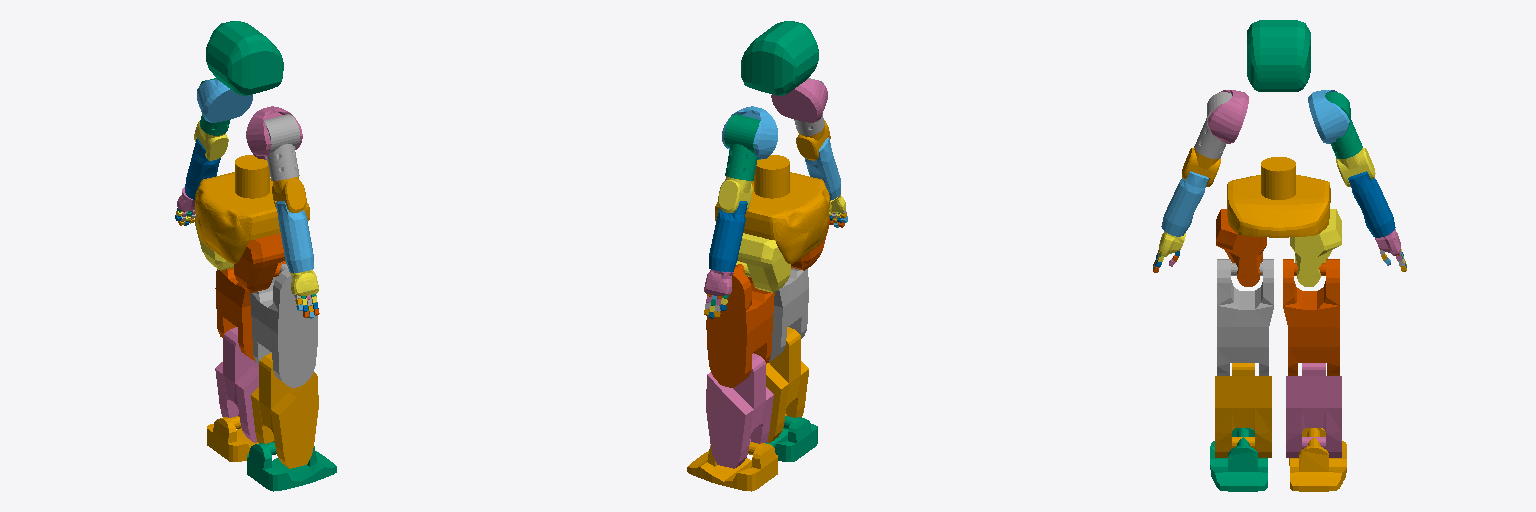
--- Render facts (derived) ---
The picture shows the robot from 3 angles, left to right: view 1: azimuth 30°, elevation 25°; view 2: azimuth 150°, elevation 25°; view 3: azimuth 270°, elevation 25°; orthographic projection.
Model ar600 with 65 links and 64 joints (54 revolute, 10 fixed), rooted at base_link, posed all joints at 0.
Visible links, largest first — view 1: base_link, right_hip, right_shin, head_link, left_shin, right_foot, left_hip, base_right_hip, right_upper_forearm, right_arm_link, left_shoulder, left_foot (+5 smaller); view 2: base_link, left_hip, left_shin, head_link, right_shin, left_foot, right_hip, base_left_hip, left_upper_forearm, left_arm_link, right_shoulder, right_foot (+5 smaller); view 3: base_link, right_hip, left_hip, right_shin, head_link, left_shin, right_foot, left_foot, base_left_hip, base_right_hip, left_arm_link, right_arm_link (+6 smaller).
Link boxes in pixels (bbox=[...]): base_link: bbox=[195, 155, 309, 263]; right_hip: bbox=[250, 261, 317, 387]; right_shin: bbox=[251, 353, 318, 468]; head_link: bbox=[206, 21, 283, 95]; left_shin: bbox=[215, 327, 258, 442]; right_foot: bbox=[247, 442, 336, 491]; left_hip: bbox=[215, 268, 255, 361]; base_right_hip: bbox=[234, 233, 285, 292]; right_upper_forearm: bbox=[264, 114, 299, 180]; right_arm_link: bbox=[276, 201, 313, 272]; left_shoulder: bbox=[197, 79, 252, 122]; left_foot: bbox=[207, 416, 258, 461]; base_link: bbox=[715, 155, 829, 263]; left_hip: bbox=[706, 260, 774, 387]; left_shin: bbox=[706, 353, 773, 468]; head_link: bbox=[741, 21, 818, 95]; right_shin: bbox=[766, 327, 808, 442]; left_foot: bbox=[687, 442, 777, 491]; right_hip: bbox=[769, 268, 808, 361]; base_left_hip: bbox=[736, 233, 790, 292]; left_upper_forearm: bbox=[724, 114, 760, 180]; left_arm_link: bbox=[709, 201, 747, 272]; right_shoulder: bbox=[771, 79, 827, 122]; right_foot: bbox=[766, 416, 817, 461]; base_link: bbox=[1227, 157, 1330, 237]; right_hip: bbox=[1217, 259, 1273, 375]; left_hip: bbox=[1283, 259, 1339, 375]; right_shin: bbox=[1215, 363, 1271, 457]; head_link: bbox=[1247, 20, 1310, 91]; left_shin: bbox=[1286, 363, 1341, 457]; right_foot: bbox=[1210, 428, 1267, 491]; left_foot: bbox=[1289, 428, 1346, 491]; base_left_hip: bbox=[1290, 209, 1341, 286]; base_right_hip: bbox=[1216, 209, 1266, 286]; left_arm_link: bbox=[1348, 171, 1395, 237]; right_arm_link: bbox=[1161, 171, 1208, 236].
Size in the robot's own frame: 0.3687 by 0.7946 by 1.5 metres.
Meshes: 21 distinct files referenced, 56 mesh visuals loaded (20 Collada DAE); not drawn: 1 (reference not matched to a file when rendering).

robot.urdf — ar600:
<?xml version="1.0" ?>
<!-- =================================================================================== -->
<!-- |    This document was autogenerated by xacro from ar600.urdf.xacro               | -->
<!-- |    EDITING THIS FILE BY HAND IS NOT RECOMMENDED                                 | -->
<!-- =================================================================================== -->
<robot name="ar600" xmlns:xacro="http://ros.org/wiki/xacro">
  <gazebo>
    <plugin filename="libgazebo_ros_control.so" name="gazebo_ros_control">
      <robotNamespace>/ar600</robotNamespace>
    </plugin>
    <!-- 	<plugin name="gazebo_ros_controller_manager" filename="libgazebo_ros_controller_manager.so">
    	<alwaysOn>true</alwaysOn>
    	<updateRate>1000.0</updateRate>
    	<robotNamespace>/ar600</robotNamespace>
    </plugin>
 -->
  </gazebo>
  <!--<xacro:include filename="$(find ar600_description)/urdf/base/base.transmission.xacro" />-->
  <!--<xacro:include filename="$(find ar600_description)/urdf/head/head.transmission.xacro" />-->
  <!--<xacro:include filename="$(find ar600_description)/urdf/leg/leg.transmission.xacro" />-->
  <!--<xacro:include filename="$(find ar600_description)/urdf/hand/hand.transmission.xacro" />-->
  <link name="base_link">
    <inertial>
      <mass value="10"/>
      <inertia ixx="1.0" ixy="0.0" ixz="0.0" iyy="1.0" iyz="0.0" izz="1.0"/>
    </inertial>
    <collision>
      <geometry>
        <mesh filename="package://ar600_description/meshes/base.stl"/>
      </geometry>
    </collision>
    <visual>
      <geometry>
        <mesh filename="package://ar600_description/meshes/base_low.dae"/>
      </geometry>
    </visual>
  </link>
  <link name="torso_link">
    <inertial>
      <mass value="30"/>
      <inertia ixx="1.0" ixy="0.0" ixz="0.0" iyy="1.0" iyz="0.0" izz="1.0"/>
    </inertial>
    <collision>
      <geometry>
        <mesh filename="package://ar600_description/meshes/body.stl"/>
      </geometry>
    </collision>
    <visual>
      <geometry>
        <mesh filename="package://ar600_description/meshes/body.dae"/>
      </geometry>
    </visual>
  </link>
  <joint name="torso_rotation_joint" type="revolute">
    <axis xyz="0 0 1"/>
    <dynamics damping="0.7"/>
    <parent link="base_link"/>
    <child link="torso_link"/>
    <limit effort="1000.0" lower="-.5" upper=".5" velocity="0.5"/>
    <origin rpy="0 0 0" xyz="0 0 0"/>
  </joint>
  <gazebo reference="base_link">
    <selfCollide>false</selfCollide>
    <mu1>0.2</mu1>
    <mu2>0.2</mu2>
    <material>Gazebo/Black</material>
  </gazebo>
  <gazebo reference="base_link">
    <selfCollide>false</selfCollide>
    <mu1>0.2</mu1>
    <mu2>0.2</mu2>
  </gazebo>
  <!--<xacro:ar600_base_torso_transmission/>-->
  <link name="head_link">
    <visual>
      <geometry>
        <mesh filename="package://ar600_description/meshes/head_low.dae"/>
      </geometry>
    </visual>
    <inertial>
      <mass value="1"/>
      <inertia ixx="1.0" ixy="0.0" ixz="0.0" iyy="1.0" iyz="0.0" izz="1.0"/>
    </inertial>
    <collision>
      <geometry>
        <mesh filename="package://ar600_description/meshes/phys_model/head.stl"/>
      </geometry>
    </collision>
  </link>
  <link name="head_mount">
    <inertial>
      <mass value=".1"/>
      <inertia ixx="1.0" ixy="0.0" ixz="0.0" iyy="1.0" iyz="0.0" izz="1.0"/>
    </inertial>
  </link>
  <link name="head_tilt_mount">
    <inertial>
      <mass value=".1"/>
      <inertia ixx="1.0" ixy="0.0" ixz="0.0" iyy="1.0" iyz="0.0" izz="1.0"/>
    </inertial>
  </link>
  <joint name="torso_head_mount" type="revolute">
    <parent link="torso_link"/>
    <child link="head_mount"/>
    <origin rpy="0 0 0" xyz="-0.05 0 .37"/>
    <limit effort="1000.0" lower="-0.548" upper="0.548" velocity="0.5"/>
    <axis xyz="0 0 1"/>
    <dynamics damping="0.7"/>
  </joint>
  <joint name="mount_head_tilt_mount" type="revolute">
    <parent link="head_mount"/>
    <child link="head_tilt_mount"/>
    <origin rpy="0 0 0" xyz="0 0 0"/>
    <limit effort="1000.0" lower="-.1" upper="0.1" velocity="0.5"/>
    <axis xyz="1 0 0"/>
    <dynamics damping="0.7"/>
  </joint>
  <joint name="head_mount_head" type="revolute">
    <parent link="head_tilt_mount"/>
    <child link="head_link"/>
    <limit effort="1000.0" lower="-0.25" upper="0.25" velocity="0.5"/>
    <axis xyz="0 1 0"/>
    <dynamics damping="0.7"/>
    <origin rpy="0 0 0" xyz="0 0 0"/>
  </joint>
  <!--<xacro:ar600_head_transmission/>-->
  <link name="base_right_hip">
    <visual>
      <geometry>
        <mesh filename="package://ar600_description/meshes/right_base_leg_low.dae"/>
      </geometry>
    </visual>
    <inertial>
      <mass value="5"/>
      <inertia ixx="1.0" ixy="0.0" ixz="0.0" iyy="1.0" iyz="0.0" izz="1.0"/>
    </inertial>
  </link>
  <link name="right_hip_mount">
    <inertial>
      <mass value="1"/>
      <inertia ixx="1.0" ixy="0.0" ixz="0.0" iyy="1.0" iyz="0.0" izz="1.0"/>
    </inertial>
  </link>
  <link name="right_hip">
    <visual>
      <geometry>
        <mesh filename="package://ar600_description/meshes/right_leg_low.dae"/>
      </geometry>
    </visual>
    <inertial>
      <mass value="5"/>
      <inertia ixx="1.0" ixy="0.0" ixz="0.0" iyy="1.0" iyz="0.0" izz="1.0"/>
    </inertial>
    <collision>
      <geometry>
        <mesh filename="package://ar600_description/meshes/phys_model/hip.stl"/>
      </geometry>
    </collision>
  </link>
  <link name="right_shin">
    <visual>
      <geometry>
        <mesh filename="package://ar600_description/meshes/shin_low.dae"/>
      </geometry>
    </visual>
    <inertial>
      <mass value="5"/>
      <inertia ixx="1.0" ixy="0.0" ixz="0.0" iyy="1.0" iyz="0.0" izz="1.0"/>
    </inertial>
    <collision>
      <geometry>
        <mesh filename="package://ar600_description/meshes/phys_model/phys_shin.stl"/>
      </geometry>
    </collision>
  </link>
  <link name="right_shin_foot_mount">
    <inertial>
      <mass value="1"/>
      <inertia ixx="1.0" ixy="0.0" ixz="0.0" iyy="1.0" iyz="0.0" izz="1.0"/>
    </inertial>
  </link>
  <link name="right_foot">
    <visual>
      <geometry>
        <mesh filename="package://ar600_description/meshes/right_foot_low.dae"/>
      </geometry>
    </visual>
    <inertial>
      <mass value="2"/>
      <inertia ixx="1.0" ixy="0.0" ixz="0.0" iyy="1.0" iyz="0.0" izz="1.0"/>
    </inertial>
    <collision>
      <geometry>
        <mesh filename="package://ar600_description/meshes/phys_model/foot.stl"/>
      </geometry>
    </collision>
  </link>
  <joint name="base_right_leg_joint" type="revolute">
    <parent link="base_link"/>
    <child link="base_right_hip"/>
    <origin rpy=" 0 0 0" xyz="0.025 -.1 -0.085"/>
    <axis xyz="0 0 -1"/>
    <limit effort="1000.0" lower="0.5" upper="-0.5" velocity="0.5"/>
    <dynamics damping="0.7"/>
  </joint>
  <joint name="right_base_mount" type="revolute">
    <parent link="base_right_hip"/>
    <child link="right_hip_mount"/>
    <origin rpy=" 0 0 0" xyz="0.0267 0 -.154"/>
    <limit effort="1000.0" lower="0.5" upper="-0.5" velocity="0.5"/>
    <axis xyz="-1 0 0"/>
    <dynamics damping="0.7"/>
  </joint>
  <joint name="right_base_mount_hip" type="revolute">
    <parent link="right_hip_mount"/>
    <child link="right_hip"/>
    <origin rpy="0 0 0" xyz="0 0 0"/>
    <limit effort="1000.0" lower="-.5" upper=".5" velocity="0.5"/>
    <axis xyz="0 -1 0"/>
    <dynamics damping="0.7"/>
  </joint>
  <joint name="right_hip_right_shin" type="revolute">
    <parent link="right_hip"/>
    <child link="right_shin"/>
    <origin rpy="0 0 0" xyz="0 -0.01 -.335"/>
    <limit effort="1000.0" lower="0" upper=".707" velocity="0.5"/>
    <axis xyz="0 1 0"/>
    <dynamics damping="0.7"/>
  </joint>
  <joint name="right_shin_right_foot_mount" type="revolute">
    <parent link="right_shin"/>
    <child link="right_shin_foot_mount"/>
    <origin rpy="0 0 0" xyz="0 0 -.26"/>
    <limit effort="1000.0" lower="-.707" upper=".707" velocity="0.5"/>
    <axis xyz="0 1 0"/>
    <dynamics damping="0.7"/>
  </joint>
  <joint name="right_shin_mount_right_foot" type="revolute">
    <parent link="right_shin_foot_mount"/>
    <child link="right_foot"/>
    <limit effort="1000.0" lower="0.707" upper="-0.707" velocity="0.5"/>
    <axis xyz="-1 0 0"/>
    <dynamics damping="0.7"/>
  </joint>
  <!--<xacro:base_leg_joint_controller_macro side="${side}"/>
		<xacro:base_mount_controller_macro side="${side}"/>
		<xacro:base_mount_hip_controller_macro side="${side}"/>
		<xacro:hip_shin_controller_macro side="${side}"/>
		<xacro:shin_foot_mount_controller_macro side="${side}"/>
		<xacro:shin_mount_foot_controller_macro side="${side}"/>-->
  <link name="base_left_hip">
    <visual>
      <geometry>
        <mesh filename="package://ar600_description/meshes/left_base_leg_low.dae"/>
      </geometry>
    </visual>
    <inertial>
      <mass value="5"/>
      <inertia ixx="1.0" ixy="0.0" ixz="0.0" iyy="1.0" iyz="0.0" izz="1.0"/>
    </inertial>
  </link>
  <link name="left_hip_mount">
    <inertial>
      <mass value="1"/>
      <inertia ixx="1.0" ixy="0.0" ixz="0.0" iyy="1.0" iyz="0.0" izz="1.0"/>
    </inertial>
  </link>
  <link name="left_hip">
    <visual>
      <geometry>
        <mesh filename="package://ar600_description/meshes/left_leg_low.dae"/>
      </geometry>
    </visual>
    <inertial>
      <mass value="5"/>
      <inertia ixx="1.0" ixy="0.0" ixz="0.0" iyy="1.0" iyz="0.0" izz="1.0"/>
    </inertial>
    <collision>
      <geometry>
        <mesh filename="package://ar600_description/meshes/phys_model/hip.stl"/>
      </geometry>
    </collision>
  </link>
  <link name="left_shin">
    <visual>
      <geometry>
        <mesh filename="package://ar600_description/meshes/shin_low.dae"/>
      </geometry>
    </visual>
    <inertial>
      <mass value="5"/>
      <inertia ixx="1.0" ixy="0.0" ixz="0.0" iyy="1.0" iyz="0.0" izz="1.0"/>
    </inertial>
    <collision>
      <geometry>
        <mesh filename="package://ar600_description/meshes/phys_model/phys_shin.stl"/>
      </geometry>
    </collision>
  </link>
  <link name="left_shin_foot_mount">
    <inertial>
      <mass value="1"/>
      <inertia ixx="1.0" ixy="0.0" ixz="0.0" iyy="1.0" iyz="0.0" izz="1.0"/>
    </inertial>
  </link>
  <link name="left_foot">
    <visual>
      <geometry>
        <mesh filename="package://ar600_description/meshes/left_foot_low.dae"/>
      </geometry>
    </visual>
    <inertial>
      <mass value="2"/>
      <inertia ixx="1.0" ixy="0.0" ixz="0.0" iyy="1.0" iyz="0.0" izz="1.0"/>
    </inertial>
    <collision>
      <geometry>
        <mesh filename="package://ar600_description/meshes/phys_model/foot.stl"/>
      </geometry>
    </collision>
  </link>
  <joint name="base_left_leg_joint" type="revolute">
    <parent link="base_link"/>
    <child link="base_left_hip"/>
    <origin rpy=" 0 0 0" xyz="0.025 .1 -0.085"/>
    <axis xyz="0 0 1"/>
    <limit effort="1000.0" lower="-0.5" upper="0.5" velocity="0.5"/>
    <dynamics damping="0.7"/>
  </joint>
  <joint name="left_base_mount" type="revolute">
    <parent link="base_left_hip"/>
    <child link="left_hip_mount"/>
    <origin rpy=" 0 0 0" xyz="0.0267 0 -.154"/>
    <limit effort="1000.0" lower="-0.5" upper="0.5" velocity="0.5"/>
    <axis xyz="1 0 0"/>
    <dynamics damping="0.7"/>
  </joint>
  <joint name="left_base_mount_hip" type="revolute">
    <parent link="left_hip_mount"/>
    <child link="left_hip"/>
    <origin rpy="0 0 0" xyz="0 0 0"/>
    <limit effort="1000.0" lower="-.5" upper=".5" velocity="0.5"/>
    <axis xyz="0 -1 0"/>
    <dynamics damping="0.7"/>
  </joint>
  <joint name="left_hip_left_shin" type="revolute">
    <parent link="left_hip"/>
    <child link="left_shin"/>
    <origin rpy="0 0 0" xyz="0 0.01 -.335"/>
    <limit effort="1000.0" lower="0" upper=".707" velocity="0.5"/>
    <axis xyz="0 1 0"/>
    <dynamics damping="0.7"/>
  </joint>
  <joint name="left_shin_left_foot_mount" type="revolute">
    <parent link="left_shin"/>
    <child link="left_shin_foot_mount"/>
    <origin rpy="0 0 0" xyz="0 0 -.26"/>
    <limit effort="1000.0" lower="-.707" upper=".707" velocity="0.5"/>
    <axis xyz="0 1 0"/>
    <dynamics damping="0.7"/>
  </joint>
  <joint name="left_shin_mount_left_foot" type="revolute">
    <parent link="left_shin_foot_mount"/>
    <child link="left_foot"/>
    <limit effort="1000.0" lower="-0.707" upper="0.707" velocity="0.5"/>
    <axis xyz="1 0 0"/>
    <dynamics damping="0.7"/>
  </joint>
  <!--<xacro:base_leg_joint_controller_macro side="${side}"/>
		<xacro:base_mount_controller_macro side="${side}"/>
		<xacro:base_mount_hip_controller_macro side="${side}"/>
		<xacro:hip_shin_controller_macro side="${side}"/>
		<xacro:shin_foot_mount_controller_macro side="${side}"/>
		<xacro:shin_mount_foot_controller_macro side="${side}"/>-->
  <link name="left_shoulder">
    <visual>
      <geometry>
        <mesh filename="package://ar600_description/meshes/left_shoulder_low.dae"/>
      </geometry>
    </visual>
    <inertial>
      <mass value="1"/>
      <inertia ixx="1.0" ixy="0.0" ixz="0.0" iyy="1.0" iyz="0.0" izz="1.0"/>
    </inertial>
  </link>
  <link name="left_upper_forearm">
    <visual>
      <geometry>
        <mesh filename="package://ar600_description/meshes/left_upper_arm_high.dae"/>
      </geometry>
    </visual>
    <inertial>
      <mass value="4"/>
      <inertia ixx="1.0" ixy="0.0" ixz="0.0" iyy="1.0" iyz="0.0" izz="1.0"/>
    </inertial>
    <collision>
      <geometry>
        <mesh filename="package://ar600_description/meshes/phys_model/forearm.stl"/>
      </geometry>
    </collision>
  </link>
  <link name="left_elbow">
    <visual>
      <geometry>
        <mesh filename="package://ar600_description/meshes/elbow_low.dae"/>
      </geometry>
    </visual>
    <inertial>
      <mass value="1"/>
      <inertia ixx="1.0" ixy="0.0" ixz="0.0" iyy="1.0" iyz="0.0" izz="1.0"/>
    </inertial>
    <collision>
      <geometry>
        <mesh filename="package://ar600_description/meshes/phys_model/elbow.stl"/>
      </geometry>
    </collision>
  </link>
  <link name="left_arm_link">
    <visual>
      <geometry>
        <mesh filename="package://ar600_description/meshes/left_arm.dae"/>
      </geometry>
    </visual>
    <inertial>
      <mass value="3"/>
      <inertia ixx="1.0" ixy="0.0" ixz="0.0" iyy="1.0" iyz="0.0" izz="1.0"/>
    </inertial>
    <collision>
      <geometry>
        <mesh filename="package://ar600_description/meshes/phys_model/arm.stl"/>
      </geometry>
    </collision>
  </link>
  <link name="left_hand_effector_link">
    <inertial>
      <mass value=".1"/>
      <inertia ixx="1.0" ixy="0.0" ixz="0.0" iyy="1.0" iyz="0.0" izz="1.0"/>
    </inertial>
  </link>
  <joint name="torso_left_shoulder" type="revolute">
    <parent link="torso_link"/>
    <child link="left_shoulder"/>
    <origin rpy="1.57 1.2 1.57" xyz="-0.01 0.12 .25"/>
    <limit effort="1000.0" lower="0" upper="3.14" velocity="0.5"/>
    <axis xyz="0 -1 0"/>
    <dynamics damping="0.7"/>
  </joint>
  <joint name="left_upper_forearm_shoulder" type="revolute">
    <parent link="left_shoulder"/>
    <child link="left_upper_forearm"/>
    <origin rpy="-1.57 0 1.57" xyz="0 0.055 0"/>
    <limit effort="1000.0" lower="0.0" upper="1.57" velocity="0.5"/>
    <axis xyz="0 -1 0"/>
    <dynamics damping="0.7"/>
  </joint>
  <joint name="left_upper_forearm_left_lower_forearm" type="revolute">
    <parent link="left_upper_forearm"/>
    <child link="left_elbow"/>
    <origin rpy="0 0 0" xyz="0 0 -0.12"/>
    <limit effort="1000.0" lower="-1.57" upper="1.57" velocity="0.5"/>
    <axis xyz="0 0 1"/>
    <dynamics damping="0.7"/>
  </joint>
  <joint name="left_lower_forearm_arm" type="revolute">
    <parent link="left_elbow"/>
    <child link="left_arm_link"/>
    <origin rpy="0 0 0" xyz="0 0 -0.1"/>
    <limit effort="1000.0" lower="0" upper="1.57" velocity="0.5"/>
    <axis xyz="-1 0 0"/>
    <dynamics damping="0.7"/>
  </joint>
  <joint name="left_lower_arm_effector" type="revolute">
    <parent link="left_arm_link"/>
    <child link="left_hand_effector_link"/>
    <limit effort="1000.0" lower="-0.707" upper="0.707" velocity="0.5"/>
    <origin rpy="0 0 0" xyz="0.005 0.005 -0.21"/>
    <axis xyz="0 0 -1"/>
    <dynamics damping="0.7"/>
  </joint>
  <!--<xacro:shoulder_transmission_macro side="${side}"/>
		<xacro:upper_forearm_shoulder_transmission_macro side="${side}"/>
		<xacro:upper_forearm_lower_forearm_transmission_macro side="${side}"/>
		<xacro:elbow_transmission_macro side="${side}"/>
		<xacro:arm_transmission_macro side="${side}"/>-->
  <link name="right_shoulder">
    <visual>
      <geometry>
        <mesh filename="package://ar600_description/meshes/right_shoulder_low.dae"/>
      </geometry>
    </visual>
    <inertial>
      <mass value="1"/>
      <inertia ixx="1.0" ixy="0.0" ixz="0.0" iyy="1.0" iyz="0.0" izz="1.0"/>
    </inertial>
  </link>
  <link name="right_upper_forearm">
    <visual>
      <geometry>
        <mesh filename="package://ar600_description/meshes/right_upper_arm_high.dae"/>
      </geometry>
    </visual>
    <inertial>
      <mass value="4"/>
      <inertia ixx="1.0" ixy="0.0" ixz="0.0" iyy="1.0" iyz="0.0" izz="1.0"/>
    </inertial>
    <collision>
      <geometry>
        <mesh filename="package://ar600_description/meshes/phys_model/forearm.stl"/>
      </geometry>
    </collision>
  </link>
  <link name="right_elbow">
    <visual>
      <geometry>
        <mesh filename="package://ar600_description/meshes/elbow_low.dae"/>
      </geometry>
    </visual>
    <inertial>
      <mass value="1"/>
      <inertia ixx="1.0" ixy="0.0" ixz="0.0" iyy="1.0" iyz="0.0" izz="1.0"/>
    </inertial>
    <collision>
      <geometry>
        <mesh filename="package://ar600_description/meshes/phys_model/elbow.stl"/>
      </geometry>
    </collision>
  </link>
  <link name="right_arm_link">
    <visual>
      <geometry>
        <mesh filename="package://ar600_description/meshes/right_arm.dae"/>
      </geometry>
    </visual>
    <inertial>
      <mass value="3"/>
      <inertia ixx="1.0" ixy="0.0" ixz="0.0" iyy="1.0" iyz="0.0" izz="1.0"/>
    </inertial>
    <collision>
      <geometry>
        <mesh filename="package://ar600_description/meshes/phys_model/arm.stl"/>
      </geometry>
    </collision>
  </link>
  <link name="right_hand_effector_link">
    <inertial>
      <mass value=".1"/>
      <inertia ixx="1.0" ixy="0.0" ixz="0.0" iyy="1.0" iyz="0.0" izz="1.0"/>
    </inertial>
  </link>
  <joint name="torso_right_shoulder" type="revolute">
    <parent link="torso_link"/>
    <child link="right_shoulder"/>
    <origin rpy="-1.57 1.2 -1.57" xyz="-0.01 -0.12 .25"/>
    <limit effort="1000.0" lower="0" upper="3.14" velocity="0.5"/>
    <axis xyz="0 -1 0"/>
    <dynamics damping="0.7"/>
  </joint>
  <joint name="right_upper_forearm_shoulder" type="revolute">
    <parent link="right_shoulder"/>
    <child link="right_upper_forearm"/>
    <origin rpy="-1.57 0 1.57" xyz="0 -0.055 0"/>
    <limit effort="1000.0" lower="0.0" upper="1.57" velocity="0.5"/>
    <axis xyz="0 1 0"/>
    <dynamics damping="0.7"/>
  </joint>
  <joint name="right_upper_forearm_right_lower_forearm" type="revolute">
    <parent link="right_upper_forearm"/>
    <child link="right_elbow"/>
    <origin rpy="0 0 0" xyz="0 0 -0.12"/>
    <limit effort="1000.0" lower="-1.57" upper="1.57" velocity="0.5"/>
    <axis xyz="0 0 -1"/>
    <dynamics damping="0.7"/>
  </joint>
  <joint name="right_lower_forearm_arm" type="revolute">
    <parent link="right_elbow"/>
    <child link="right_arm_link"/>
    <origin rpy="0 0 0" xyz="0 0 -0.1"/>
    <limit effort="1000.0" lower="0" upper="1.57" velocity="0.5"/>
    <axis xyz="-1 0 0"/>
    <dynamics damping="0.7"/>
  </joint>
  <joint name="right_lower_arm_effector" type="revolute">
    <parent link="right_arm_link"/>
    <child link="right_hand_effector_link"/>
    <limit effort="1000.0" lower="-0.707" upper="0.707" velocity="0.5"/>
    <origin rpy="0 0 0" xyz="0.005 0.005 -0.21"/>
    <axis xyz="0 0 -1"/>
    <dynamics damping="0.7"/>
  </joint>
  <!--<xacro:shoulder_transmission_macro side="${side}"/>
		<xacro:upper_forearm_shoulder_transmission_macro side="${side}"/>
		<xacro:upper_forearm_lower_forearm_transmission_macro side="${side}"/>
		<xacro:elbow_transmission_macro side="${side}"/>
		<xacro:arm_transmission_macro side="${side}"/>-->
  <link name="right_palm">
    <visual>
      <geometry>
        <mesh filename="package://ar600_description/meshes/right_palm_vis.dae"/>
      </geometry>
    </visual>
    <inertial>
      <mass value="0.1"/>
      <inertia ixx="1.0" ixy="0.0" ixz="0.0" iyy="1.0" iyz="0.0" izz="1.0"/>
    </inertial>
    <collision>
      <geometry>
        <mesh filename="package://ar600_description/meshes/right_palm.stl"/>
      </geometry>
    </collision>
  </link>
  <link name="rightbigfingerseg1">
    <visual>
      <geometry>
        <mesh filename="package://ar600_description/meshes/finger_segment.dae"/>
      </geometry>
    </visual>
    <inertial>
      <mass value="0.05"/>
      <inertia ixx="1.0" ixy="0.0" ixz="0.0" iyy="1.0" iyz="0.0" izz="1.0"/>
    </inertial>
    <collision>
      <geometry>
        <mesh filename="package://ar600_description/meshes/finger_segment.stl"/>
      </geometry>
    </collision>
  </link>
  <link name="rightbigfingerseg2">
    <visual>
      <geometry>
        <mesh filename="package://ar600_description/meshes/finger_segment.dae"/>
      </geometry>
    </visual>
    <inertial>
      <mass value="0.05"/>
      <inertia ixx="1.0" ixy="0.0" ixz="0.0" iyy="1.0" iyz="0.0" izz="1.0"/>
    </inertial>
    <collision>
      <geometry>
        <mesh filename="package://ar600_description/meshes/finger_segment.stl"/>
      </geometry>
    </collision>
  </link>
  <link name="rightbigfingerseg3">
    <visual>
      <geometry>
        <mesh filename="package://ar600_description/meshes/finger_tip.dae"/>
      </geometry>
    </visual>
    <inertial>
      <mass value="0.05"/>
      <inertia ixx="1.0" ixy="0.0" ixz="0.0" iyy="1.0" iyz="0.0" izz="1.0"/>
    </inertial>
    <collision>
      <geometry>
        <mesh filename="package://ar600_description/meshes/finger_segment.stl"/>
      </geometry>
    </collision>
  </link>
  <joint name="arm_right_palm" type="revolute">
    <parent link="right_hand_effector_link"/>
    <child link="right_palm"/>
    <origin rpy="0 0 1.57" xyz="0 0 0"/>
    <limit effort="1000.0" lower="-0.707" upper="0.707" velocity="0.5"/>
    <axis xyz="0 0 1"/>
    <dynamics damping="0.7"/>
  </joint>
  <joint name="right_palm_thumb1" type="fixed">
    <parent link="right_palm"/>
    <child link="rightbigfingerseg1"/>
    <origin rpy="0.314 0 3.14" xyz="-0.022 -0.025 -.045"/>
    <dynamics damping="0.7"/>
  </joint>
  <joint name="right_thumb1_thumb2" type="revolute">
    <parent link="rightbigfingerseg1"/>
    <child link="rightbigfingerseg2"/>
    <origin rpy="-0.314 0 0" xyz="0 0 -0.02"/>
    <limit effort="1000.0" lower="0" upper="0.707" velocity="0.5"/>
    <axis xyz="1 0 0"/>
    <dynamics damping="0.7"/>
  </joint>
  <joint name="right_thumb2_thumb3" type="revolute">
    <parent link="rightbigfingerseg2"/>
    <child link="rightbigfingerseg3"/>
    <origin rpy="-0.314 0 0" xyz="0 0 -0.02"/>
    <limit effort="1000.0" lower="0" upper="0.707" velocity="0.5"/>
    <axis xyz="1 0 0"/>
    <dynamics damping="0.7"/>
  </joint>
  <link name="rightf41">
    <visual>
      <geometry>
        <mesh filename="package://ar600_description/meshes/finger_segment.dae"/>
      </geometry>
    </visual>
    <inertial>
      <mass value="0.05"/>
      <inertia ixx="1.0" ixy="0.0" ixz="0.0" iyy="1.0" iyz="0.0" izz="1.0"/>
    </inertial>
    <collision>
      <geometry>
        <mesh filename="package://ar600_description/meshes/finger_segment.stl"/>
      </geometry>
    </collision>
  </link>
  <link name="rightf42">
    <visual>
      <geometry>
        <mesh filename="package://ar600_description/meshes/finger_segment.dae"/>
      </geometry>
    </visual>
    <inertial>
      <mass value="0.05"/>
      <inertia ixx="1.0" ixy="0.0" ixz="0.0" iyy="1.0" iyz="0.0" izz="1.0"/>
    </inertial>
    <collision>
      <geometry>
        <mesh filename="package://ar600_description/meshes/finger_segment.stl"/>
      </geometry>
    </collision>
  </link>
  <link name="rightf43">
    <visual>
      <geometry>
        <mesh filename="package://ar600_description/meshes/finger_tip.dae"/>
      </geometry>
    </visual>
    <inertial>
      <mass value="0.05"/>
      <inertia ixx="1.0" ixy="0.0" ixz="0.0" iyy="1.0" iyz="0.0" izz="1.0"/>
    </inertial>
    <collision>
      <geometry>
        <mesh filename="package://ar600_description/meshes/finger_segment.stl"/>
      </geometry>
    </collision>
  </link>
  <joint name="right_palm_f4" type="fixed">
    <parent link="right_palm"/>
    <child link="rightf41"/>
    <origin rpy="0 0 0" xyz="0.03 0.01 -0.0575"/>
    <dynamics damping="0.7"/>
  </joint>
  <joint name="right_f41_f42" type="revolute">
    <parent link="rightf41"/>
    <child link="rightf42"/>
    <origin rpy="0 0 0" xyz="0 0 -0.02"/>
    <limit effort="1000.0" lower="0" upper="0.707" velocity="0.5"/>
    <axis xyz="1 0 0"/>
    <dynamics damping="0.7"/>
  </joint>
  <joint name="right_f42_f43" type="revolute">
    <parent link="rightf42"/>
    <child link="rightf43"/>
    <origin rpy="0 0 0" xyz="0 0 -0.02"/>
    <limit effort="1000.0" lower="0" upper="0.707" velocity="0.5"/>
    <axis xyz="1 0 0"/>
    <dynamics damping="0.7"/>
  </joint>
  <link name="rightf11">
    <visual>
      <geometry>
        <mesh filename="package://ar600_description/meshes/finger_segment.dae"/>
      </geometry>
    </visual>
    <inertial>
      <mass value="0.05"/>
      <inertia ixx="1.0" ixy="0.0" ixz="0.0" iyy="1.0" iyz="0.0" izz="1.0"/>
    </inertial>
    <collision>
      <geometry>
        <mesh filename="package://ar600_description/meshes/finger_segment.stl"/>
      </geometry>
    </collision>
  </link>
  <link name="rightf12">
    <visual>
      <geometry>
        <mesh filename="package://ar600_description/meshes/finger_segment.dae"/>
      </geometry>
    </visual>
    <inertial>
      <mass value="0.05"/>
      <inertia ixx="1.0" ixy="0.0" ixz="0.0" iyy="1.0" iyz="0.0" izz="1.0"/>
    </inertial>
    <collision>
      <geometry>
        <mesh filename="package://ar600_description/meshes/finger_segment.stl"/>
      </geometry>
    </collision>
  </link>
  <link name="rightf13">
    <visual>
      <geometry>
        <mesh filename="package://ar600_description/meshes/finger_segment.dae"/>
      </geometry>
    </visual>
    <inertial>
      <mass value="0.05"/>
      <inertia ixx="1.0" ixy="0.0" ixz="0.0" iyy="1.0" iyz="0.0" izz="1.0"/>
    </inertial>
    <collision>
      <geometry>
        <mesh filename="package://ar600_description/meshes/finger_segment.stl"/>
      </geometry>
    </collision>
  </link>
  <link name="rightf14">
    <visual>
      <geometry>
        <mesh filename="package://ar600_description/meshes/finger_tip.dae"/>
      </geometry>
    </visual>
    <inertial>
      <mass value="0.05"/>
      <inertia ixx="1.0" ixy="0.0" ixz="0.0" iyy="1.0" iyz="0.0" izz="1.0"/>
    </inertial>
    <collision>
      <geometry>
        <mesh filename="package://ar600_description/meshes/finger_segment.stl"/>
      </geometry>
    </collision>
  </link>
  <joint name="right_palm_f1" type="fixed">
    <parent link="right_palm"/>
    <child link="rightf11"/>
    <origin rpy="0 0 0" xyz="-0.022 0.01 -0.0625"/>
  </joint>
  <joint name="right_f11_f12" type="revolute">
    <parent link="rightf11"/>
    <child link="rightf12"/>
    <origin rpy="0 0 0" xyz="0 0 -0.02"/>
    <limit effort="1000.0" lower="0" upper="0.707" velocity="0.5"/>
    <axis xyz="1 0 0"/>
  </joint>
  <joint name="right_f12_f13" type="revolute">
    <parent link="rightf12"/>
    <child link="rightf13"/>
    <origin rpy="0 0 0" xyz="0 0 -0.02"/>
    <limit effort="1000.0" lower="0" upper="0.707" velocity="0.5"/>
    <axis xyz="1 0 0"/>
  </joint>
  <joint name="right_f13_f14" type="revolute">
    <parent link="rightf13"/>
    <child link="rightf14"/>
    <origin rpy="0 0 0" xyz="0 0 -0.02"/>
    <limit effort="1000.0" lower="0" upper="0.707" velocity="0.5"/>
    <axis xyz="1 0 0"/>
  </joint>
  <link name="rightf21">
    <visual>
      <geometry>
        <mesh filename="package://ar600_description/meshes/finger_segment.dae"/>
      </geometry>
    </visual>
    <inertial>
      <mass value="0.05"/>
      <inertia ixx="1.0" ixy="0.0" ixz="0.0" iyy="1.0" iyz="0.0" izz="1.0"/>
    </inertial>
    <collision>
      <geometry>
        <mesh filename="package://ar600_description/meshes/finger_segment.stl"/>
      </geometry>
    </collision>
  </link>
  <link name="rightf22">
    <visual>
      <geometry>
        <mesh filename="package://ar600_description/meshes/finger_segment.dae"/>
      </geometry>
    </visual>
    <inertial>
      <mass value="0.05"/>
      <inertia ixx="1.0" ixy="0.0" ixz="0.0" iyy="1.0" iyz="0.0" izz="1.0"/>
    </inertial>
    <collision>
      <geometry>
        <mesh filename="package://ar600_description/meshes/finger_segment.stl"/>
      </geometry>
    </collision>
  </link>
  <link name="rightf23">
    <visual>
      <geometry>
        <mesh filename="package://ar600_description/meshes/finger_segment.dae"/>
      </geometry>
    </visual>
    <inertial>
      <mass value="0.05"/>
      <inertia ixx="1.0" ixy="0.0" ixz="0.0" iyy="1.0" iyz="0.0" izz="1.0"/>
    </inertial>
    <collision>
      <geometry>
        <mesh filename="package://ar600_description/meshes/finger_segment.stl"/>
      </geometry>
    </collision>
  </link>
  <link name="rightf24">
    <visual>
      <geometry>
        <mesh filename="package://ar600_description/meshes/finger_tip.dae"/>
      </geometry>
    </visual>
    <inertial>
      <mass value="0.05"/>
      <inertia ixx="1.0" ixy="0.0" ixz="0.0" iyy="1.0" iyz="0.0" izz="1.0"/>
    </inertial>
    <collision>
      <geometry>
        <mesh filename="package://ar600_description/meshes/finger_segment.stl"/>
      </geometry>
    </collision>
  </link>
  <joint name="right_palm_f2" type="fixed">
    <parent link="right_palm"/>
    <child link="rightf21"/>
    <origin rpy="0 0 0" xyz="-0.004 0.01 -0.068"/>
  </joint>
  <joint name="right_f21_f22" type="revolute">
    <parent link="rightf21"/>
    <child link="rightf22"/>
    <origin rpy="0 0 0" xyz="0 0 -0.02"/>
    <limit effort="1000.0" lower="0" upper="0.707" velocity="0.5"/>
    <axis xyz="1 0 0"/>
  </joint>
  <joint name="right_f22_f23" type="revolute">
    <parent link="rightf22"/>
    <child link="rightf23"/>
    <origin rpy="0 0 0" xyz="0 0 -0.02"/>
    <limit effort="1000.0" lower="0" upper="0.707" velocity="0.5"/>
    <axis xyz="1 0 0"/>
  </joint>
  <joint name="right_f23_f24" type="revolute">
    <parent link="rightf23"/>
    <child link="rightf24"/>
    <origin rpy="0 0 0" xyz="0 0 -0.02"/>
    <limit effort="1000.0" lower="0" upper="0.707" velocity="0.5"/>
    <axis xyz="1 0 0"/>
  </joint>
  <link name="rightf31">
    <visual>
      <geometry>
        <mesh filename="package://ar600_description/meshes/finger_segment.dae"/>
      </geometry>
    </visual>
    <inertial>
      <mass value="0.05"/>
      <inertia ixx="1.0" ixy="0.0" ixz="0.0" iyy="1.0" iyz="0.0" izz="1.0"/>
    </inertial>
    <collision>
      <geometry>
        <mesh filename="package://ar600_description/meshes/finger_segment.stl"/>
      </geometry>
    </collision>
  </link>
  <link name="rightf32">
    <visual>
      <geometry>
        <mesh filename="package://ar600_description/meshes/finger_segment.dae"/>
      </geometry>
    </visual>
    <inertial>
      <mass value="0.05"/>
      <inertia ixx="1.0" ixy="0.0" ixz="0.0" iyy="1.0" iyz="0.0" izz="1.0"/>
    </inertial>
    <collision>
      <geometry>
        <mesh filename="package://ar600_description/meshes/finger_segment.stl"/>
      </geometry>
    </collision>
  </link>
  <link name="rightf33">
    <visual>
      <geometry>
        <mesh filename="package://ar600_description/meshes/finger_segment.dae"/>
      </geometry>
    </visual>
    <inertial>
      <mass value="0.05"/>
      <inertia ixx="1.0" ixy="0.0" ixz="0.0" iyy="1.0" iyz="0.0" izz="1.0"/>
    </inertial>
    <collision>
      <geometry>
        <mesh filename="package://ar600_description/meshes/finger_segment.stl"/>
      </geometry>
    </collision>
  </link>
  <link name="rightf34">
    <visual>
      <geometry>
        <mesh filename="package://ar600_description/meshes/finger_tip.dae"/>
      </geometry>
    </visual>
    <inertial>
      <mass value="0.05"/>
      <inertia ixx="1.0" ixy="0.0" ixz="0.0" iyy="1.0" iyz="0.0" izz="1.0"/>
    </inertial>
    <collision>
      <geometry>
        <mesh filename="package://ar600_description/meshes/finger_segment.stl"/>
      </geometry>
    </collision>
  </link>
  <joint name="right_palm_f3" type="fixed">
    <parent link="right_palm"/>
    <child link="rightf31"/>
    <origin rpy="0 0 0" xyz="0.013 0.01 -0.0625"/>
  </joint>
  <joint name="right_f31_f32" type="revolute">
    <parent link="rightf31"/>
    <child link="rightf32"/>
    <origin rpy="0 0 0" xyz="0 0 -0.02"/>
    <limit effort="1000.0" lower="0" upper="0.707" velocity="0.5"/>
    <axis xyz="1 0 0"/>
  </joint>
  <joint name="right_f32_f33" type="revolute">
    <parent link="rightf32"/>
    <child link="rightf33"/>
    <origin rpy="0 0 0" xyz="0 0 -0.02"/>
    <limit effort="1000.0" lower="0" upper="0.707" velocity="0.5"/>
    <axis xyz="1 0 0"/>
  </joint>
  <joint name="right_f33_f34" type="revolute">
    <parent link="rightf33"/>
    <child link="rightf34"/>
    <origin rpy="0 0 0" xyz="0 0 -0.02"/>
    <limit effort="1000.0" lower="0" upper="0.707" velocity="0.5"/>
    <axis xyz="1 0 0"/>
  </joint>
  <link name="left_palm">
    <visual>
      <geometry>
        <mesh filename="package://ar600_description/meshes/left_palm_vis.dae"/>
      </geometry>
    </visual>
    <inertial>
      <mass value="0.1"/>
      <inertia ixx="1.0" ixy="0.0" ixz="0.0" iyy="1.0" iyz="0.0" izz="1.0"/>
    </inertial>
    <collision>
      <geometry>
        <mesh filename="package://ar600_description/meshes/left_palm.stl"/>
      </geometry>
    </collision>
  </link>
  <link name="leftbigfingerseg1">
    <visual>
      <geometry>
        <mesh filename="package://ar600_description/meshes/finger_segment.dae"/>
      </geometry>
    </visual>
    <inertial>
      <mass value="0.05"/>
      <inertia ixx="1.0" ixy="0.0" ixz="0.0" iyy="1.0" iyz="0.0" izz="1.0"/>
    </inertial>
    <collision>
      <geometry>
        <mesh filename="package://ar600_description/meshes/finger_segment.stl"/>
      </geometry>
    </collision>
  </link>
  <link name="leftbigfingerseg2">
    <visual>
      <geometry>
        <mesh filename="package://ar600_description/meshes/finger_segment.dae"/>
      </geometry>
    </visual>
    <inertial>
      <mass value="0.05"/>
      <inertia ixx="1.0" ixy="0.0" ixz="0.0" iyy="1.0" iyz="0.0" izz="1.0"/>
    </inertial>
    <collision>
      <geometry>
        <mesh filename="package://ar600_description/meshes/finger_segment.stl"/>
      </geometry>
    </collision>
  </link>
  <link name="leftbigfingerseg3">
    <visual>
      <geometry>
        <mesh filename="package://ar600_description/meshes/finger_tip.dae"/>
      </geometry>
    </visual>
    <inertial>
      <mass value="0.05"/>
      <inertia ixx="1.0" ixy="0.0" ixz="0.0" iyy="1.0" iyz="0.0" izz="1.0"/>
    </inertial>
    <collision>
      <geometry>
        <mesh filename="package://ar600_description/meshes/finger_segment.stl"/>
      </geometry>
    </collision>
  </link>
  <joint name="arm_left_palm" type="revolute">
    <parent link="left_hand_effector_link"/>
    <child link="left_palm"/>
    <origin rpy="0 0 -1.57" xyz="0 0 0"/>
    <limit effort="1000.0" lower="-0.707" upper="0.707" velocity="0.5"/>
    <axis xyz="0 0 -1"/>
    <dynamics damping="0.7"/>
  </joint>
  <joint name="left_palm_thumb1" type="fixed">
    <parent link="left_palm"/>
    <child link="leftbigfingerseg1"/>
    <origin rpy="0.314 0 3.14" xyz="0.022 -0.025 -.045"/>
    <dynamics damping="0.7"/>
  </joint>
  <joint name="left_thumb1_thumb2" type="revolute">
    <parent link="leftbigfingerseg1"/>
    <child link="leftbigfingerseg2"/>
    <origin rpy="-0.314 0 0" xyz="0 0 -0.02"/>
    <limit effort="1000.0" lower="0" upper="0.707" velocity="0.5"/>
    <axis xyz="-1 0 0"/>
    <dynamics damping="0.7"/>
  </joint>
  <joint name="left_thumb2_thumb3" type="revolute">
    <parent link="leftbigfingerseg2"/>
    <child link="leftbigfingerseg3"/>
    <origin rpy="-0.314 0 0" xyz="0 0 -0.02"/>
    <limit effort="1000.0" lower="0" upper="0.707" velocity="0.5"/>
    <axis xyz="-1 0 0"/>
    <dynamics damping="0.7"/>
  </joint>
  <link name="leftf41">
    <visual>
      <geometry>
        <mesh filename="package://ar600_description/meshes/finger_segment.dae"/>
      </geometry>
    </visual>
    <inertial>
      <mass value="0.05"/>
      <inertia ixx="1.0" ixy="0.0" ixz="0.0" iyy="1.0" iyz="0.0" izz="1.0"/>
    </inertial>
    <collision>
      <geometry>
        <mesh filename="package://ar600_description/meshes/finger_segment.stl"/>
      </geometry>
    </collision>
  </link>
  <link name="leftf42">
    <visual>
      <geometry>
        <mesh filename="package://ar600_description/meshes/finger_segment.dae"/>
      </geometry>
    </visual>
    <inertial>
      <mass value="0.05"/>
      <inertia ixx="1.0" ixy="0.0" ixz="0.0" iyy="1.0" iyz="0.0" izz="1.0"/>
    </inertial>
    <collision>
      <geometry>
        <mesh filename="package://ar600_description/meshes/finger_segment.stl"/>
      </geometry>
    </collision>
  </link>
  <link name="leftf43">
    <visual>
      <geometry>
        <mesh filename="package://ar600_description/meshes/finger_tip.dae"/>
      </geometry>
    </visual>
    <inertial>
      <mass value="0.05"/>
      <inertia ixx="1.0" ixy="0.0" ixz="0.0" iyy="1.0" iyz="0.0" izz="1.0"/>
    </inertial>
    <collision>
      <geometry>
        <mesh filename="package://ar600_description/meshes/finger_segment.stl"/>
      </geometry>
    </collision>
  </link>
  <joint name="left_palm_f4" type="fixed">
    <parent link="left_palm"/>
    <child link="leftf41"/>
    <origin rpy="0 0 0" xyz="-0.03 0.01 -0.0575"/>
    <dynamics damping="0.7"/>
  </joint>
  <joint name="left_f41_f42" type="revolute">
    <parent link="leftf41"/>
    <child link="leftf42"/>
    <origin rpy="0 0 0" xyz="0 0 -0.02"/>
    <limit effort="1000.0" lower="0" upper="0.707" velocity="0.5"/>
    <axis xyz="-1 0 0"/>
    <dynamics damping="0.7"/>
  </joint>
  <joint name="left_f42_f43" type="revolute">
    <parent link="leftf42"/>
    <child link="leftf43"/>
    <origin rpy="0 0 0" xyz="0 0 -0.02"/>
    <limit effort="1000.0" lower="0" upper="0.707" velocity="0.5"/>
    <axis xyz="-1 0 0"/>
    <dynamics damping="0.7"/>
  </joint>
  <link name="leftf11">
    <visual>
      <geometry>
        <mesh filename="package://ar600_description/meshes/finger_segment.dae"/>
      </geometry>
    </visual>
    <inertial>
      <mass value="0.05"/>
      <inertia ixx="1.0" ixy="0.0" ixz="0.0" iyy="1.0" iyz="0.0" izz="1.0"/>
    </inertial>
    <collision>
      <geometry>
        <mesh filename="package://ar600_description/meshes/finger_segment.stl"/>
      </geometry>
    </collision>
  </link>
  <link name="leftf12">
    <visual>
      <geometry>
        <mesh filename="package://ar600_description/meshes/finger_segment.dae"/>
      </geometry>
    </visual>
    <inertial>
      <mass value="0.05"/>
      <inertia ixx="1.0" ixy="0.0" ixz="0.0" iyy="1.0" iyz="0.0" izz="1.0"/>
    </inertial>
    <collision>
      <geometry>
        <mesh filename="package://ar600_description/meshes/finger_segment.stl"/>
      </geometry>
    </collision>
  </link>
  <link name="leftf13">
    <visual>
      <geometry>
        <mesh filename="package://ar600_description/meshes/finger_segment.dae"/>
      </geometry>
    </visual>
    <inertial>
      <mass value="0.05"/>
      <inertia ixx="1.0" ixy="0.0" ixz="0.0" iyy="1.0" iyz="0.0" izz="1.0"/>
    </inertial>
    <collision>
      <geometry>
        <mesh filename="package://ar600_description/meshes/finger_segment.stl"/>
      </geometry>
    </collision>
  </link>
  <link name="leftf14">
    <visual>
      <geometry>
        <mesh filename="package://ar600_description/meshes/finger_tip.dae"/>
      </geometry>
    </visual>
    <inertial>
      <mass value="0.05"/>
      <inertia ixx="1.0" ixy="0.0" ixz="0.0" iyy="1.0" iyz="0.0" izz="1.0"/>
    </inertial>
    <collision>
      <geometry>
        <mesh filename="package://ar600_description/meshes/finger_segment.stl"/>
      </geometry>
    </collision>
  </link>
  <joint name="left_palm_f1" type="fixed">
    <parent link="left_palm"/>
    <child link="leftf11"/>
    <origin rpy="0 0 0" xyz="0.022 0.01 -0.0625"/>
  </joint>
  <joint name="left_f11_f12" type="revolute">
    <parent link="leftf11"/>
    <child link="leftf12"/>
    <origin rpy="0 0 0" xyz="0 0 -0.02"/>
    <limit effort="1000.0" lower="0" upper="0.707" velocity="0.5"/>
    <axis xyz="-1 0 0"/>
  </joint>
  <joint name="left_f12_f13" type="revolute">
    <parent link="leftf12"/>
    <child link="leftf13"/>
    <origin rpy="0 0 0" xyz="0 0 -0.02"/>
    <limit effort="1000.0" lower="0" upper="0.707" velocity="0.5"/>
    <axis xyz="-1 0 0"/>
  </joint>
  <joint name="left_f13_f14" type="revolute">
    <parent link="leftf13"/>
    <child link="leftf14"/>
    <origin rpy="0 0 0" xyz="0 0 -0.02"/>
    <limit effort="1000.0" lower="0" upper="0.707" velocity="0.5"/>
    <axis xyz="-1 0 0"/>
  </joint>
  <link name="leftf21">
    <visual>
      <geometry>
        <mesh filename="package://ar600_description/meshes/finger_segment.dae"/>
      </geometry>
    </visual>
    <inertial>
      <mass value="0.05"/>
      <inertia ixx="1.0" ixy="0.0" ixz="0.0" iyy="1.0" iyz="0.0" izz="1.0"/>
    </inertial>
    <collision>
      <geometry>
        <mesh filename="package://ar600_description/meshes/finger_segment.stl"/>
      </geometry>
    </collision>
  </link>
  <link name="leftf22">
    <visual>
      <geometry>
        <mesh filename="package://ar600_description/meshes/finger_segment.dae"/>
      </geometry>
    </visual>
    <inertial>
      <mass value="0.05"/>
      <inertia ixx="1.0" ixy="0.0" ixz="0.0" iyy="1.0" iyz="0.0" izz="1.0"/>
    </inertial>
    <collision>
      <geometry>
        <mesh filename="package://ar600_description/meshes/finger_segment.stl"/>
      </geometry>
    </collision>
  </link>
  <link name="leftf23">
    <visual>
      <geometry>
        <mesh filename="package://ar600_description/meshes/finger_segment.dae"/>
      </geometry>
    </visual>
    <inertial>
      <mass value="0.05"/>
      <inertia ixx="1.0" ixy="0.0" ixz="0.0" iyy="1.0" iyz="0.0" izz="1.0"/>
    </inertial>
    <collision>
      <geometry>
        <mesh filename="package://ar600_description/meshes/finger_segment.stl"/>
      </geometry>
    </collision>
  </link>
  <link name="leftf24">
    <visual>
      <geometry>
        <mesh filename="package://ar600_description/meshes/finger_tip.dae"/>
      </geometry>
    </visual>
    <inertial>
      <mass value="0.05"/>
      <inertia ixx="1.0" ixy="0.0" ixz="0.0" iyy="1.0" iyz="0.0" izz="1.0"/>
    </inertial>
    <collision>
      <geometry>
        <mesh filename="package://ar600_description/meshes/finger_segment.stl"/>
      </geometry>
    </collision>
  </link>
  <joint name="left_palm_f2" type="fixed">
    <parent link="left_palm"/>
    <child link="leftf21"/>
    <origin rpy="0 0 0" xyz="0.004 0.01 -0.068"/>
  </joint>
  <joint name="left_f21_f22" type="revolute">
    <parent link="leftf21"/>
    <child link="leftf22"/>
    <origin rpy="0 0 0" xyz="0 0 -0.02"/>
    <limit effort="1000.0" lower="0" upper="0.707" velocity="0.5"/>
    <axis xyz="-1 0 0"/>
  </joint>
  <joint name="left_f22_f23" type="revolute">
    <parent link="leftf22"/>
    <child link="leftf23"/>
    <origin rpy="0 0 0" xyz="0 0 -0.02"/>
    <limit effort="1000.0" lower="0" upper="0.707" velocity="0.5"/>
    <axis xyz="-1 0 0"/>
  </joint>
  <joint name="left_f23_f24" type="revolute">
    <parent link="leftf23"/>
    <child link="leftf24"/>
    <origin rpy="0 0 0" xyz="0 0 -0.02"/>
    <limit effort="1000.0" lower="0" upper="0.707" velocity="0.5"/>
    <axis xyz="-1 0 0"/>
  </joint>
  <link name="leftf31">
    <visual>
      <geometry>
        <mesh filename="package://ar600_description/meshes/finger_segment.dae"/>
      </geometry>
    </visual>
    <inertial>
      <mass value="0.05"/>
      <inertia ixx="1.0" ixy="0.0" ixz="0.0" iyy="1.0" iyz="0.0" izz="1.0"/>
    </inertial>
    <collision>
      <geometry>
        <mesh filename="package://ar600_description/meshes/finger_segment.stl"/>
      </geometry>
    </collision>
  </link>
  <link name="leftf32">
    <visual>
      <geometry>
        <mesh filename="package://ar600_description/meshes/finger_segment.dae"/>
      </geometry>
    </visual>
    <inertial>
      <mass value="0.05"/>
      <inertia ixx="1.0" ixy="0.0" ixz="0.0" iyy="1.0" iyz="0.0" izz="1.0"/>
    </inertial>
    <collision>
      <geometry>
        <mesh filename="package://ar600_description/meshes/finger_segment.stl"/>
      </geometry>
    </collision>
  </link>
  <link name="leftf33">
    <visual>
      <geometry>
        <mesh filename="package://ar600_description/meshes/finger_segment.dae"/>
      </geometry>
    </visual>
    <inertial>
      <mass value="0.05"/>
      <inertia ixx="1.0" ixy="0.0" ixz="0.0" iyy="1.0" iyz="0.0" izz="1.0"/>
    </inertial>
    <collision>
      <geometry>
        <mesh filename="package://ar600_description/meshes/finger_segment.stl"/>
      </geometry>
    </collision>
  </link>
  <link name="leftf34">
    <visual>
      <geometry>
        <mesh filename="package://ar600_description/meshes/finger_tip.dae"/>
      </geometry>
    </visual>
    <inertial>
      <mass value="0.05"/>
      <inertia ixx="1.0" ixy="0.0" ixz="0.0" iyy="1.0" iyz="0.0" izz="1.0"/>
    </inertial>
    <collision>
      <geometry>
        <mesh filename="package://ar600_description/meshes/finger_segment.stl"/>
      </geometry>
    </collision>
  </link>
  <joint name="left_palm_f3" type="fixed">
    <parent link="left_palm"/>
    <child link="leftf31"/>
    <origin rpy="0 0 0" xyz="-0.013 0.01 -0.0625"/>
  </joint>
  <joint name="left_f31_f32" type="revolute">
    <parent link="leftf31"/>
    <child link="leftf32"/>
    <origin rpy="0 0 0" xyz="0 0 -0.02"/>
    <limit effort="1000.0" lower="0" upper="0.707" velocity="0.5"/>
    <axis xyz="-1 0 0"/>
  </joint>
  <joint name="left_f32_f33" type="revolute">
    <parent link="leftf32"/>
    <child link="leftf33"/>
    <origin rpy="0 0 0" xyz="0 0 -0.02"/>
    <limit effort="1000.0" lower="0" upper="0.707" velocity="0.5"/>
    <axis xyz="-1 0 0"/>
  </joint>
  <joint name="left_f33_f34" type="revolute">
    <parent link="leftf33"/>
    <child link="leftf34"/>
    <origin rpy="0 0 0" xyz="0 0 -0.02"/>
    <limit effort="1000.0" lower="0" upper="0.707" velocity="0.5"/>
    <axis xyz="-1 0 0"/>
  </joint>
</robot>
